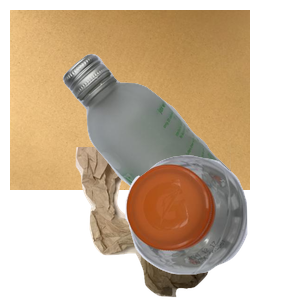cardboard: (10, 10, 250, 190)
glass: (60, 51, 300, 231)
plastic: (123, 152, 300, 300)
trash: (73, 147, 300, 300)
